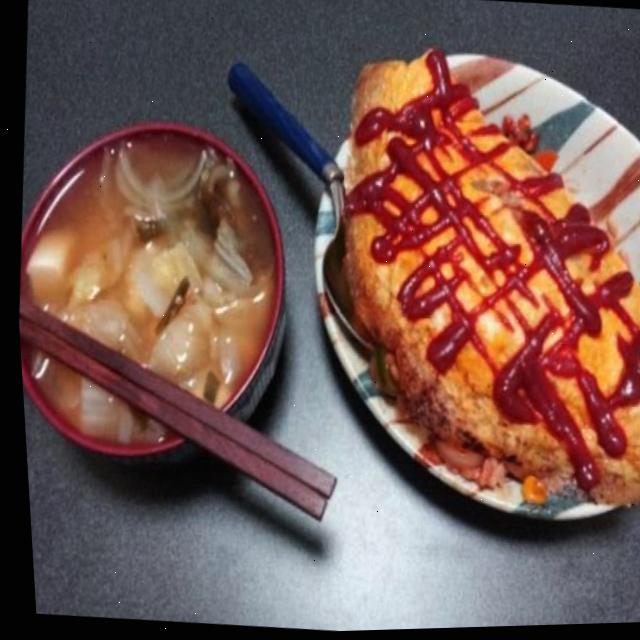汤锅炖物: (5, 96, 320, 492)
